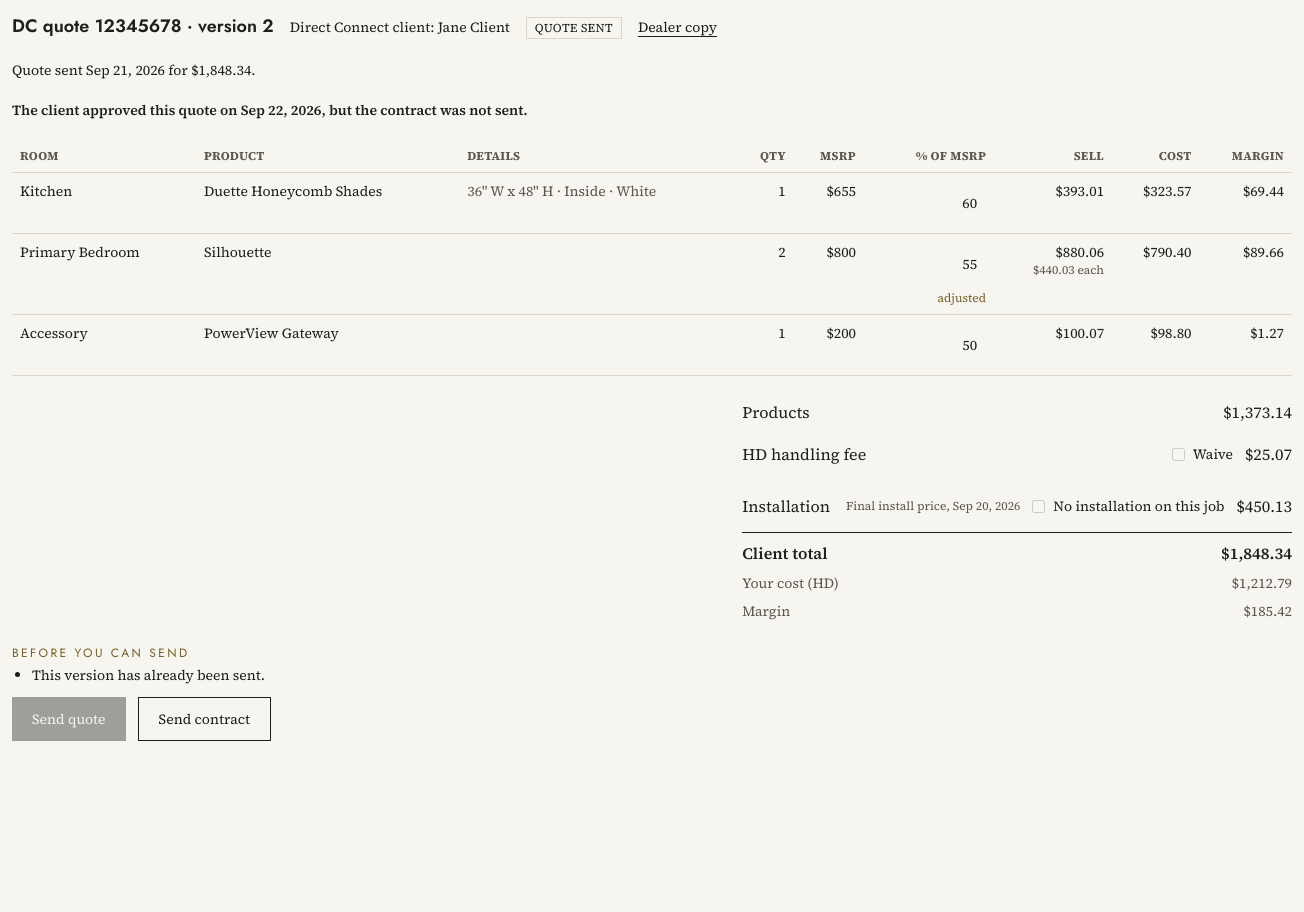
Scenario: QuoteReview after Send quote › offers Send contract when the client approved but the contract did not go out, and sends it
Expected: the text "The client approved this quote on Sep 22, 2026, but the contract was not sent." is shown, [12,100,528,120]
What coordinates should you click on to do the following:
click the button "Send contract"
I would click on:
 (204, 719)
Its box is [138,697,271,741].
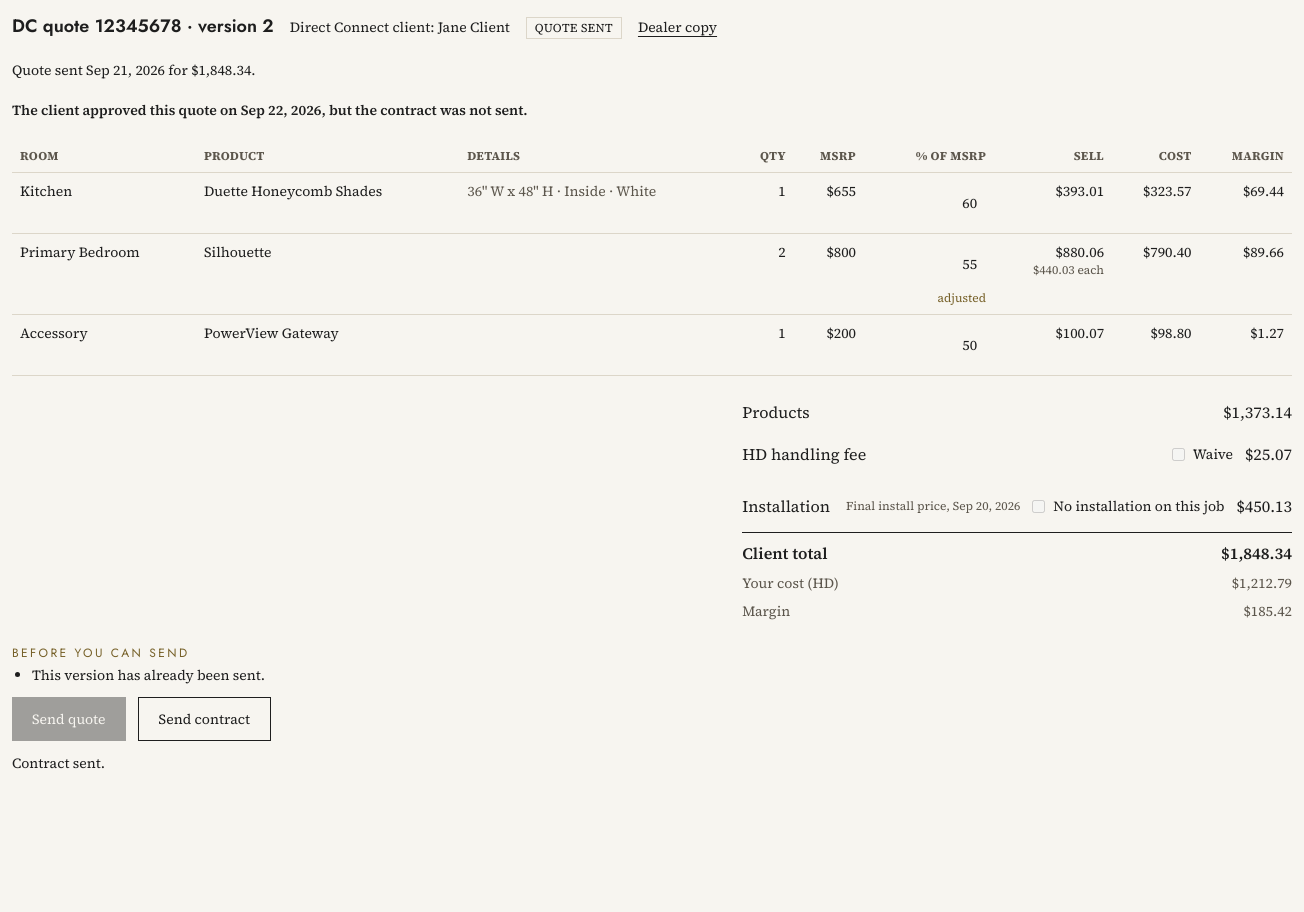
Expected: the message reads "Contract sent.", [12,753,105,773]
